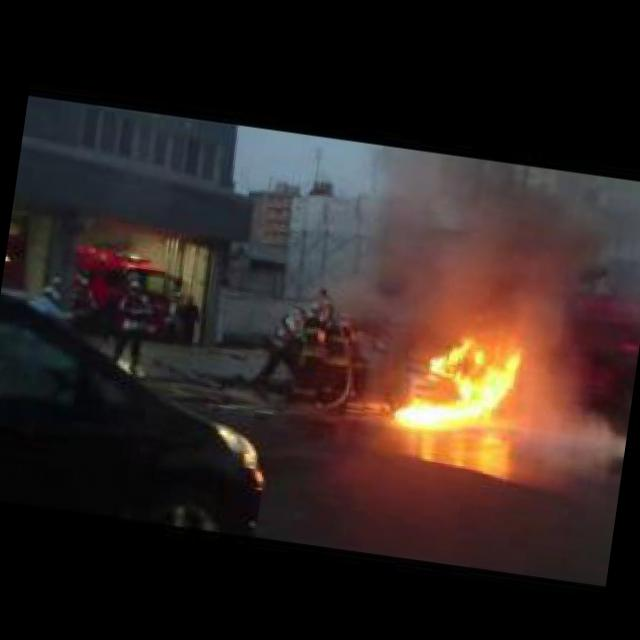fire: (388, 334, 532, 440)
smoke: (368, 152, 618, 374)
